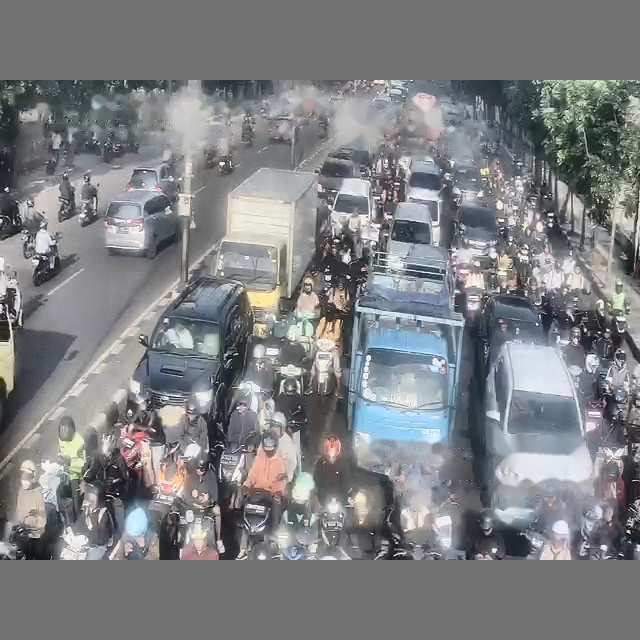Mobil: (479, 342, 594, 527), (129, 275, 253, 428), (476, 294, 547, 375), (104, 190, 179, 258), (452, 201, 498, 267), (406, 160, 442, 243), (386, 202, 432, 258), (331, 178, 374, 234), (126, 163, 180, 202), (316, 157, 360, 203), (454, 163, 484, 203), (328, 147, 372, 173), (398, 154, 435, 173), (268, 115, 294, 141), (371, 95, 391, 110), (388, 88, 405, 105)
Motor: (218, 434, 255, 510), (241, 491, 273, 553), (32, 232, 60, 286), (313, 338, 335, 395), (78, 184, 99, 227), (58, 193, 75, 221), (21, 229, 35, 259), (218, 155, 234, 175), (203, 146, 216, 168)
Truk: (348, 246, 464, 473), (213, 168, 318, 336)
